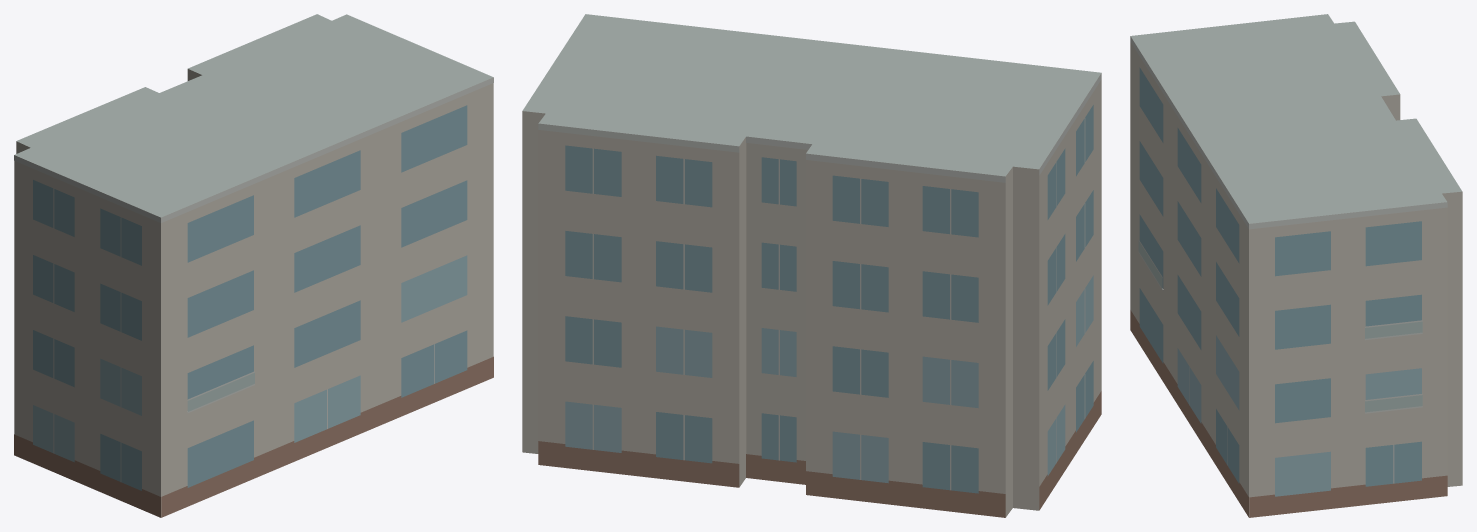
The model's file is survey-upis-32650861.glb.
3 views of the same model, side by side, from view 1: azimuth 30°, elevation 25°; view 2: azimuth 150°, elevation 25°; view 3: azimuth 270°, elevation 25° (orthographic). The views are drawn at different scales.
Visible parts, largest first — view 1: survey-upis-32650861.tmp; view 2: survey-upis-32650861.tmp; view 3: survey-upis-32650861.tmp.
Part boxes in pixels (x1,y1,x2,y2): survey-upis-32650861.tmp: [14, 14, 493, 517]; survey-upis-32650861.tmp: [522, 14, 1101, 517]; survey-upis-32650861.tmp: [1130, 14, 1462, 517].
Bounding box in the file's own units: 20.07 × 13.1 × 13.42.
